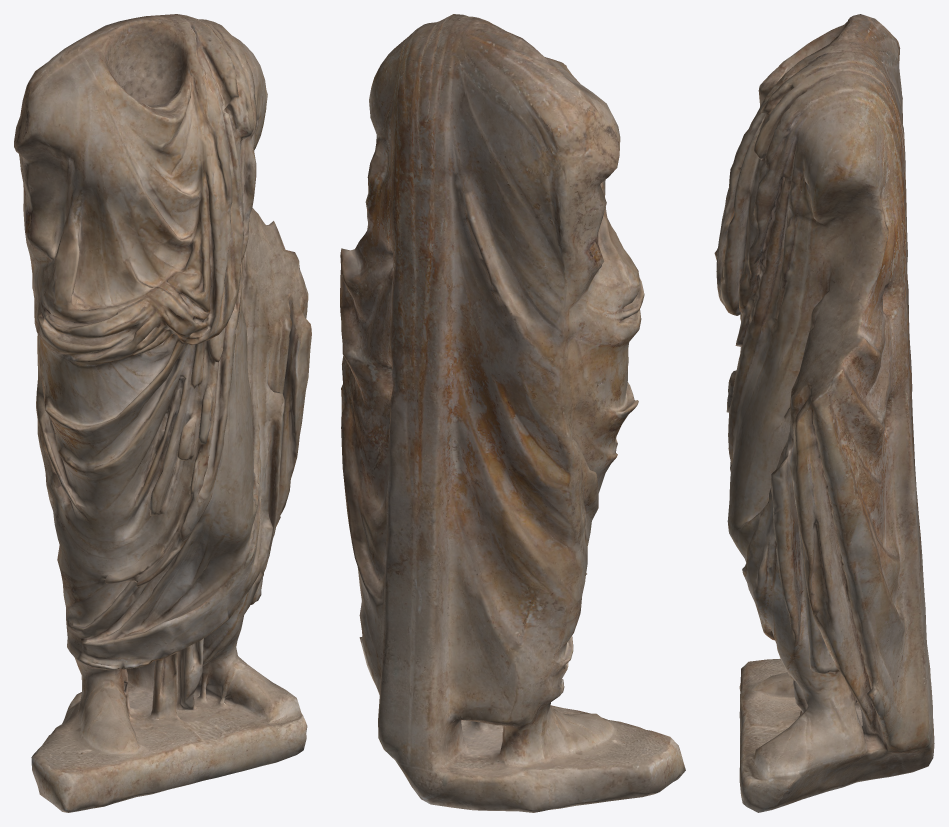
The model's file is Roman Statue_LOD2__tgsibj3fa.gltf.
The picture shows the model from 3 angles, left to right: view 1: azimuth 30°, elevation 25°; view 2: azimuth 150°, elevation 25°; view 3: azimuth 270°, elevation 25°; orthographic projection. The views are drawn at different scales.
Parts seen in each view (by area): view 1: Aset_stone_carved_L_tgsibj3fa_LOD2; view 2: Aset_stone_carved_L_tgsibj3fa_LOD2; view 3: Aset_stone_carved_L_tgsibj3fa_LOD2.
Boxes of the visible parts, bbox=[...] form: Aset_stone_carved_L_tgsibj3fa_LOD2: bbox=[14, 14, 311, 812]; Aset_stone_carved_L_tgsibj3fa_LOD2: bbox=[340, 14, 685, 812]; Aset_stone_carved_L_tgsibj3fa_LOD2: bbox=[714, 14, 934, 812].
Bounding box in the file's own units: 80 × 195 × 53.15.
Materials: 1 (1 with a texture image).
